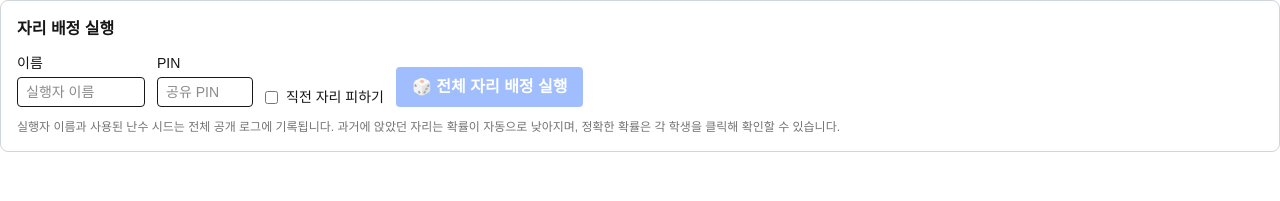
ShuffleControls › 429 → 시도 초과 메시지
Type "김철수" into the field labelled "이름" at (81, 92), box [17, 77, 145, 107]
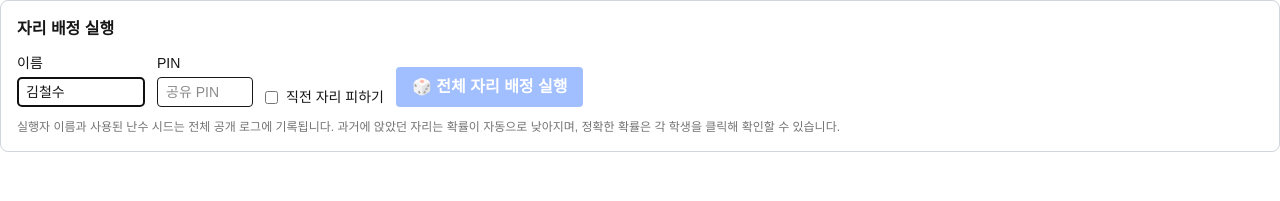
Type "4321" into the password field labelled "PIN" at (205, 92), box [157, 77, 253, 107]
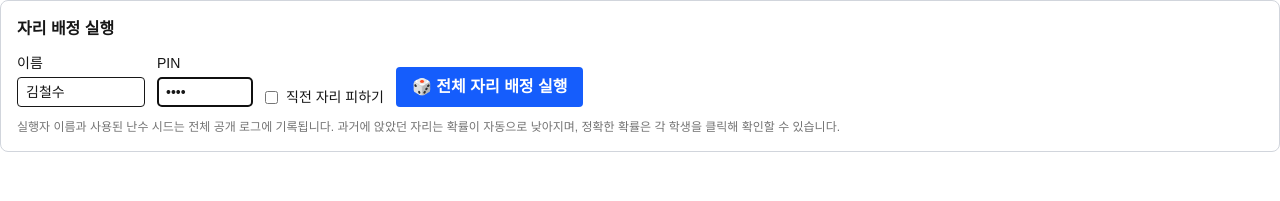
Click the button "🎲 전체 자리 배정 실행" at (490, 87), box [396, 67, 584, 107]
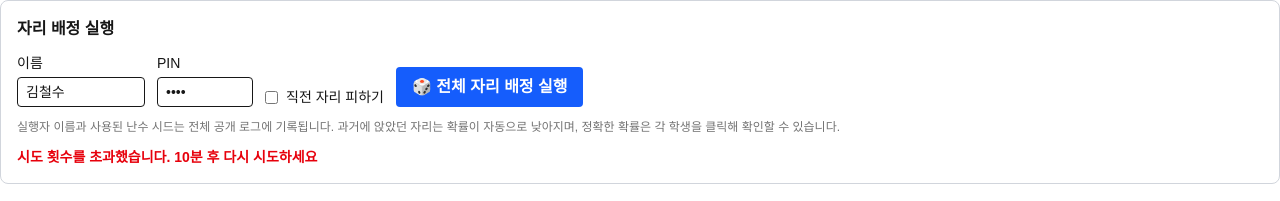
Expected: the text "시도 횟수를 초과했습니다. 10분 후 다시 시도하세요" is shown, [17, 149, 317, 165]
